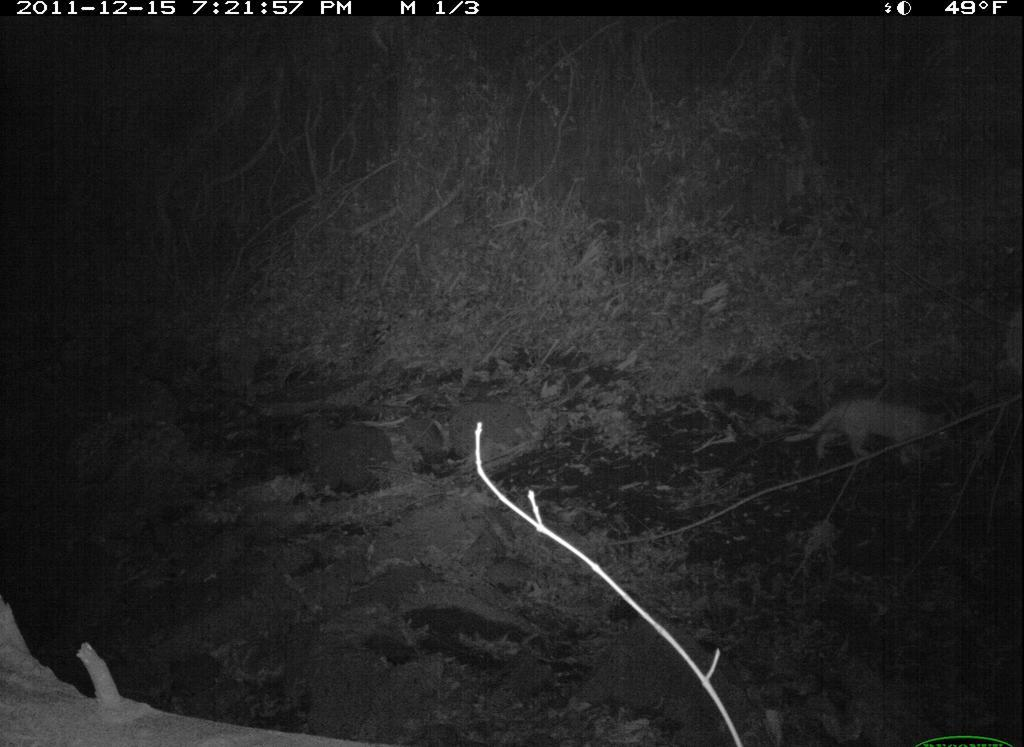squirrel: (776, 374, 969, 489)
